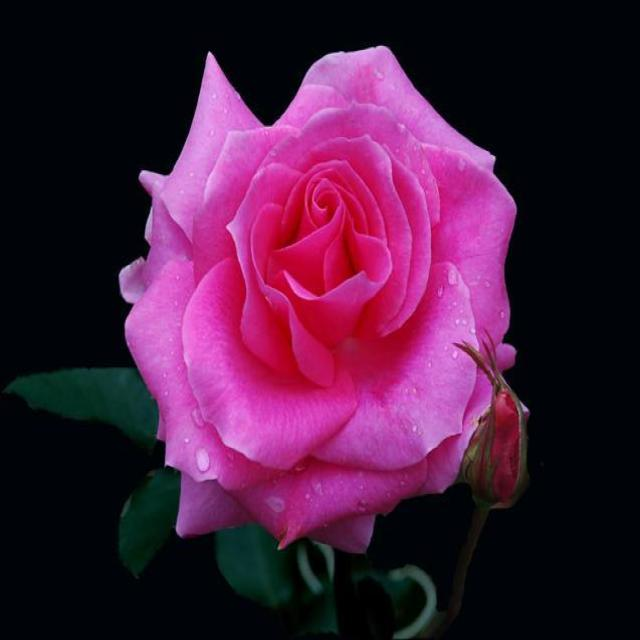rose: (98, 12, 550, 578)
